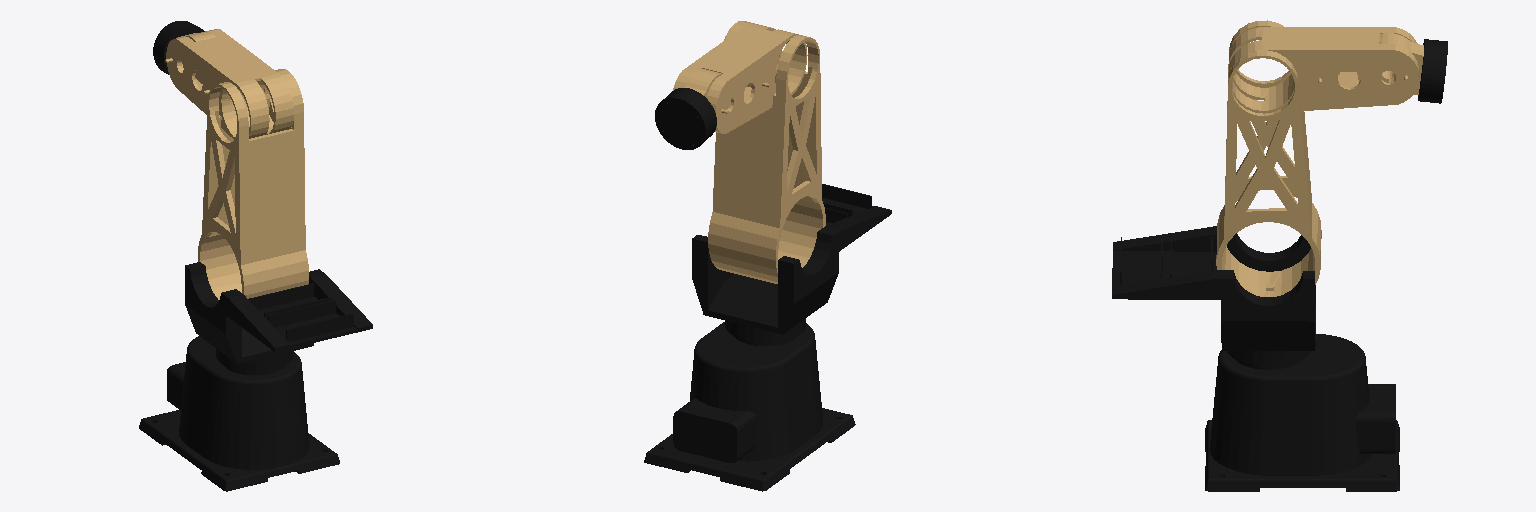
The robot description file, URDF, robot "manipulator_arm":
<?xml version="1.0" encoding="utf-8" ?>
<!-- This URDF was automatically created by SolidWorks to URDF Exporter! Originally created by [author] ([email redacted]) 
     Commit Version: 1.6.0-4-g7f85cfe  Build Version: 1.6.7995.38578
     For more information, please see http://wiki.ros.org/sw_urdf_exporter -->
<robot name="manipulator_arm">
    <link name="world" />
    <joint name="base_joint" type="fixed">
        <parent link="world" />
        <child link="base_link" />
        <origin rpy="0 0 0" xyz="-0.12 0.27 0.0" />
    </joint>
    <link name="base_link">
        <inertial>
            <origin xyz="0.097626 0.062093 0.22842" rpy="0 0 0" />
            <mass value="3.5599" />
            <inertia ixx="0.019304" ixy="-5.9075E-10" ixz="-1.2193E-09" iyy="0.019916" iyz="0.00018367" izz="0.012646" />
        </inertial>
        <visual>
            <origin xyz="0 0 0" rpy="0 0 0" />
            <geometry>
                <mesh filename="package://manipulator_arm/meshes/base_link.STL" />
            </geometry>
            <material name="">
                <color rgba="0.12157 0.12157 0.12157 1" />
            </material>
        </visual>
        <collision>
            <origin xyz="0 0 0" rpy="0 0 0" />
            <geometry>
                <mesh filename="package://manipulator_arm/meshes/base_link.STL" />
            </geometry>
        </collision>
    </link>
    <link name="link_1">
        <inertial>
            <origin xyz="-0.019755 4.427E-15 0.077605" rpy="0 0 0" />
            <mass value="1.375" />
            <inertia ixx="0.0056845" ixy="6.1339E-17" ixz="0.0016247" iyy="0.00679" iyz="-1.265E-16" izz="0.0073809" />
        </inertial>
        <visual>
            <origin xyz="0 0 0" rpy="0 0 0" />
            <geometry>
                <mesh filename="package://manipulator_arm/meshes/link_1.STL" />
            </geometry>
            <material name="">
                <color rgba="0.12157 0.12157 0.12157 1" />
            </material>
        </visual>
        <collision>
            <origin xyz="0 0 0" rpy="0 0 0" />
            <geometry>
                <mesh filename="package://manipulator_arm/meshes/link_1.STL" />
            </geometry>
        </collision>
    </link>
    <joint name="joint_1" type="revolute">
        <origin xyz="0.097626 -0.27119 0.1327" rpy="0 0 1.5613" />
        <parent link="base_link" />
        <child link="link_1" />
        <axis xyz="0 0 1" />
        <limit lower="0" upper="6.284" effort="300" velocity="3" />
    </joint>
    <link name="link_2">
        <inertial>
            <origin xyz="0.086535 1.3548E-08 -0.002" rpy="0 0 0" />
            <mass value="0.63532" />
            <inertia ixx="0.0020892" ixy="-7.3508E-11" ixz="-6.987E-19" iyy="0.006396" iyz="4.845E-19" izz="0.0068078" />
        </inertial>
        <visual>
            <origin xyz="0 0 0" rpy="0 0 0" />
            <geometry>
                <mesh filename="package://manipulator_arm/meshes/link_2.STL" />
            </geometry>
            <material name="">
                <color rgba="0.82745 0.69804 0.4902 1" />
            </material>
        </visual>
        <collision>
            <origin xyz="0 0 0" rpy="0 0 0" />
            <geometry>
                <mesh filename="package://manipulator_arm/meshes/link_2.STL" />
            </geometry>
        </collision>
    </link>
    <joint name="joint_2" type="revolute">
        <origin xyz="0 0 0.16671" rpy="-1.5708 -1.5434 3.1416" />
        <parent link="link_1" />
        <child link="link_2" />
        <axis xyz="0 0 1" />
        <limit lower="-1.47" upper="1.12" effort="200" velocity="3" />
    </joint>
    <link name="link_3">
        <inertial>
            <origin xyz="0.09086 -2.2204E-16 6.9389E-17" rpy="0 0 0" />
            <mass value="0.58657" />
            <inertia ixx="0.00079015" ixy="5.8039E-18" ixz="8.6397E-19" iyy="0.002143" iyz="-1.5829E-20" izz="0.0023438" />
        </inertial>
        <visual>
            <origin xyz="0 0 0" rpy="0 0 0" />
            <geometry>
                <mesh filename="package://manipulator_arm/meshes/link_3.STL" />
            </geometry>
            <material name="">
                <color rgba="0.82745 0.69804 0.4902 1" />
            </material>
        </visual>
        <collision>
            <origin xyz="0 0 0" rpy="0 0 0" />
            <geometry>
                <mesh filename="package://manipulator_arm/meshes/link_3.STL" />
            </geometry>
        </collision>
    </link>
    <joint name="joint_3" type="revolute">
        <origin xyz="0.25 0 0" rpy="3.1416 0 -1.5571" />
        <parent link="link_2" />
        <child link="link_3" />
        <axis xyz="0 0 1" />
        <limit lower="-3.142" upper="0" effort="200" velocity="3" />
    </joint>
    <link name="link_4">
        <inertial>
            <origin xyz="0.00050485 2.2204E-16 0.0015" rpy="0 0 0" />
            <mass value="0.1502" />
            <inertia ixx="8.1788E-05" ixy="3.7269E-20" ixz="6.0351E-21" iyy="8.2469E-05" iyz="9.5821E-21" izz="0.00013749" />
        </inertial>
        <visual>
            <origin xyz="0 0 0" rpy="0 0 0" />
            <geometry>
                <mesh filename="package://manipulator_arm/meshes/link_4.STL" />
            </geometry>
            <material name="">
                <color rgba="0.82745 0.69804 0.4902 1" />
            </material>
        </visual>
        <collision>
            <origin xyz="0 0 0" rpy="0 0 0" />
            <geometry>
                <mesh filename="package://manipulator_arm/meshes/link_4.STL" />
            </geometry>
        </collision>
    </link>
    <joint name="joint_4" type="revolute">
        <origin xyz="0.16 0 0" rpy="-3.1416 0 0.15302" />
        <parent link="link_3" />
        <child link="link_4" />
        <axis xyz="0 0 1" />
        <limit lower="-1.35" upper="1.35" effort="200" velocity="3" />
    </joint>
    <link name="link_5">
        <inertial>
            <origin xyz="-3.3307E-16 2.498E-16 0.02691" rpy="0 0 0" />
            <mass value="0.14945" />
            <inertia ixx="7.1409E-05" ixy="-3.9175E-21" ixz="-4.1081E-20" iyy="7.1409E-05" iyz="1.7364E-20" izz="0.00012043" />
        </inertial>
        <visual>
            <origin xyz="0 0 0" rpy="0 0 0" />
            <geometry>
                <mesh filename="package://manipulator_arm/meshes/link_5.STL" />
            </geometry>
            <material name="">
                <color rgba="0.12157 0.12157 0.12157 1" />
            </material>
        </visual>
        <collision>
            <origin xyz="0 0 0" rpy="0 0 0" />
            <geometry>
                <mesh filename="package://manipulator_arm/meshes/link_5.STL" />
            </geometry>
        </collision>
    </link>
    <joint name="joint_5" type="revolute">
        <origin xyz="0.030136 0 0.0015" rpy="-1.5708 0.57462 -1.5708" />
        <parent link="link_4" />
        <child link="link_5" />
        <axis xyz="0 0 1" />
        <limit lower="0" upper="3.142" effort="200" velocity="3" />
    </joint>
    <transmission name="link_1_trans">
        <type>transmission_interface/SimpleTransmission</type>
        <joint name="joint_1">
            <hardwareInterface>hardware_interface/PositionJointInterface</hardwareInterface>
        </joint>
        <actuator name="link_1_motor">
            <hardwareInterface>hardware_interface/PositionJointInterface</hardwareInterface>
            <mechanicalReduction>1</mechanicalReduction>
        </actuator>
    </transmission>
    <transmission name="link_2_trans">
        <type>transmission_interface/SimpleTransmission</type>
        <joint name="joint_2">
            <hardwareInterface>hardware_interface/PositionJointInterface</hardwareInterface>
        </joint>
        <actuator name="link_2_motor">
            <hardwareInterface>hardware_interface/PositionJointInterface</hardwareInterface>
            <mechanicalReduction>1</mechanicalReduction>
        </actuator>
    </transmission>
    <transmission name="link_3_trans">
        <type>transmission_interface/SimpleTransmission</type>
        <joint name="joint_3">
            <hardwareInterface>hardware_interface/PositionJointInterface</hardwareInterface>
        </joint>
        <actuator name="link_3_motor">
            <hardwareInterface>hardware_interface/PositionJointInterface</hardwareInterface>
            <mechanicalReduction>1</mechanicalReduction>
        </actuator>
    </transmission>
    <transmission name="link_4_trans">
        <type>transmission_interface/SimpleTransmission</type>
        <joint name="joint_4">
            <hardwareInterface>hardware_interface/PositionJointInterface</hardwareInterface>
        </joint>
        <actuator name="link_4_motor">
            <hardwareInterface>hardware_interface/PositionJointInterface</hardwareInterface>
            <mechanicalReduction>1</mechanicalReduction>
        </actuator>
    </transmission>
    <transmission name="link_5_trans">
        <type>transmission_interface/SimpleTransmission</type>
        <joint name="joint_5">
            <hardwareInterface>hardware_interface/PositionJointInterface</hardwareInterface>
        </joint>
        <actuator name="link_5_motor">
            <hardwareInterface>hardware_interface/PositionJointInterface</hardwareInterface>
            <mechanicalReduction>1</mechanicalReduction>
        </actuator>
    </transmission>
    <gazebo>
        <plugin name="control" filename="libgazebo_ros_control.so">
            <robotNamespace>/</robotNamespace>
        </plugin>
        <plugin name="gazebo_ros_control">
            <robotNamespace>/</robotNamespace>
        </plugin>
    </gazebo>
    <gazebo reference="link_1">
        <selfCollide>true</selfCollide>
    </gazebo>
    <gazebo reference="link_2">
        <selfCollide>true</selfCollide>
    </gazebo>
    <gazebo reference="link_3">
        <selfCollide>true</selfCollide>
    </gazebo>
    <gazebo reference="link_4">
        <selfCollide>true</selfCollide>
    </gazebo>
    <gazebo reference="link_5">
        <selfCollide>true</selfCollide>
    </gazebo>
</robot>

--- Facts derived from the render (not from the file) ---
Views: 3 orthographic renders of the robot side by side, from view 1: azimuth 30°, elevation 25°; view 2: azimuth 150°, elevation 25°; view 3: azimuth 270°, elevation 25°.
Robot: manipulator_arm — 7 links, 6 joints (5 revolute, 1 fixed); root link world; default pose: all joints at 0.
Visible links, largest first — view 1: link_2, base_link, link_1, link_3, link_5; view 2: base_link, link_2, link_1, link_3, link_5, link_4; view 3: base_link, link_1, link_2, link_3, link_5, link_4.
Boxes of the visible links, x1,y1,x2,y2 form: link_2: [198, 69, 308, 299]; base_link: [139, 336, 339, 491]; link_1: [185, 262, 372, 375]; link_3: [165, 29, 293, 138]; link_5: [153, 21, 204, 74]; base_link: [644, 322, 855, 491]; link_2: [708, 21, 825, 283]; link_1: [692, 184, 891, 345]; link_3: [673, 23, 807, 133]; link_5: [655, 88, 716, 149]; link_4: [685, 68, 730, 108]; base_link: [1205, 334, 1399, 491]; link_1: [1112, 226, 1315, 369]; link_2: [1216, 20, 1321, 296]; link_3: [1228, 27, 1419, 113]; link_5: [1418, 39, 1447, 103]; link_4: [1357, 33, 1423, 94].
Size in the robot's own frame: 0.19 by 0.4298 by 0.5962 metres.
6 mesh visuals loaded from 6 distinct referenced files (6 binary STL).